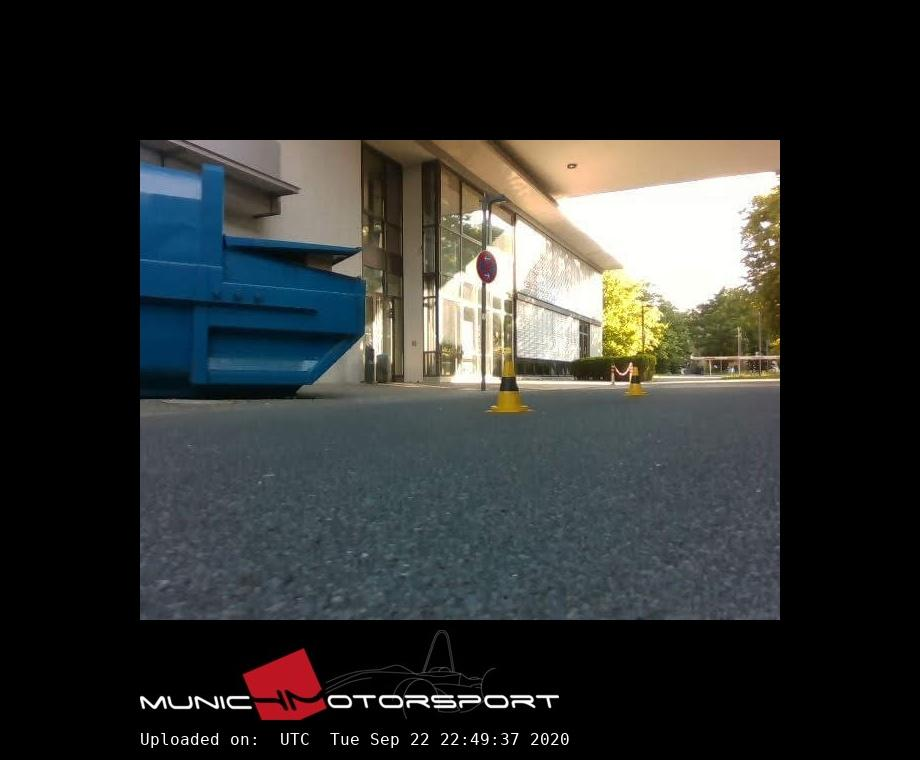yellow_cone: (486, 361, 533, 413), (625, 368, 647, 396)
